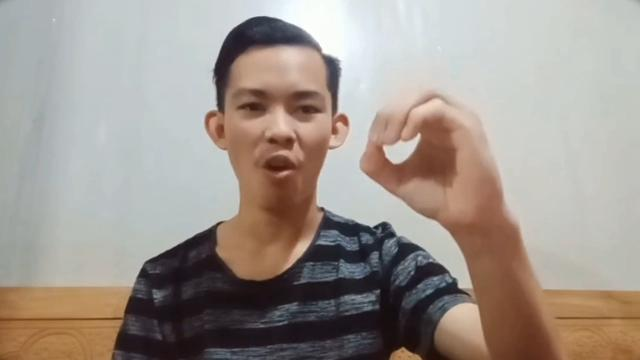O: (359, 81, 519, 235)
